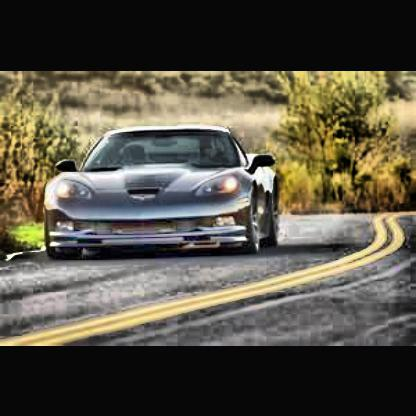Chevrolet Corvette ZR1 2012: (39, 119, 287, 263)
